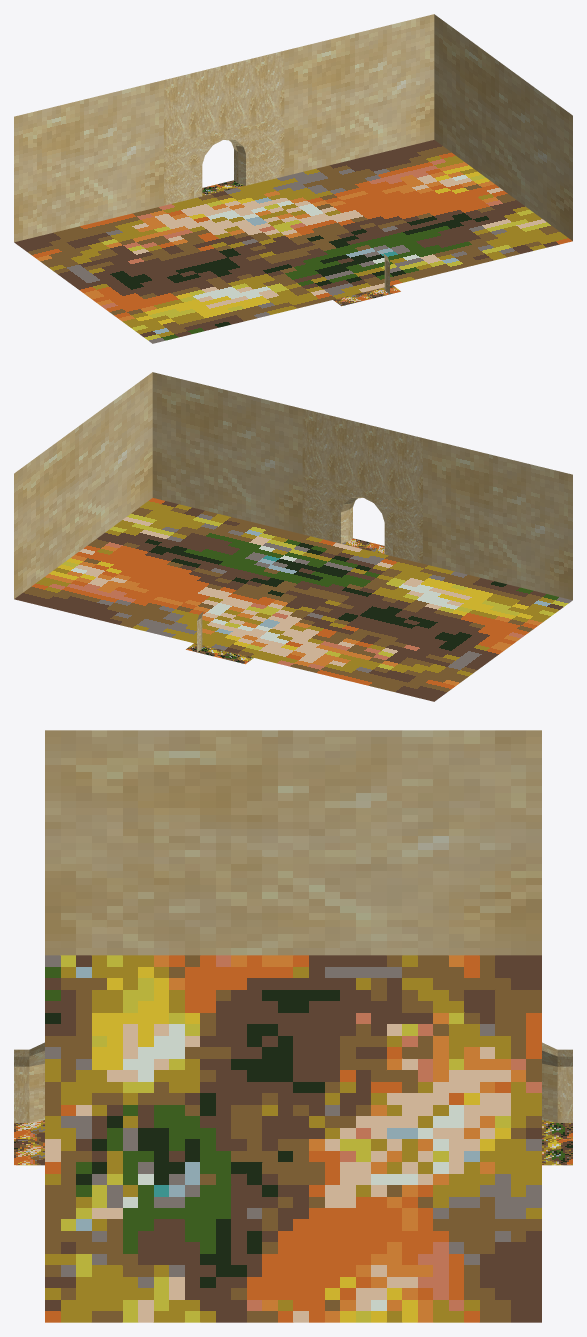
The model's file is Room9.glb.
The picture shows the model from 3 angles, top to bottom: view 1: azimuth 30°, elevation 25°; view 2: azimuth 150°, elevation 25°; view 3: azimuth 270°, elevation 25°; orthographic projection. The views are drawn at different scales.
Parts seen in each view (by area): view 1: Floor, Wall1.002, Wall1.001, Wall2.001, Wall1, Floor.001; view 2: Floor, Wall3.002, Wall3.001, Wall2.001, Wall3, Floor.002; view 3: Floor, Wall4.001, Wall1, Wall3, Floor.001, Floor.002.
Boxes of the visible parts, box(x1,y1,x2,y2) form: Floor: box(14, 140, 572, 343); Wall1.002: box(284, 14, 434, 176); Wall1.001: box(14, 80, 163, 242); Wall2.001: box(434, 14, 572, 240); Wall1: box(164, 51, 284, 205); Floor.001: box(333, 285, 400, 306); Floor: box(14, 498, 572, 701); Wall3.002: box(152, 372, 302, 534); Wall3.001: box(423, 438, 572, 600); Wall2.001: box(14, 372, 152, 598); Wall3: box(302, 409, 422, 563); Floor.002: box(186, 643, 253, 664); Floor: box(45, 955, 541, 1322); Wall4.001: box(45, 730, 541, 955); Wall1: box(542, 1042, 572, 1122); Wall3: box(14, 1042, 44, 1122); Floor.001: box(14, 1120, 44, 1165); Floor.002: box(542, 1120, 572, 1165).
Bounding box in the file's own units: 14 × 4 × 9.
2 materials, 2 textured.
